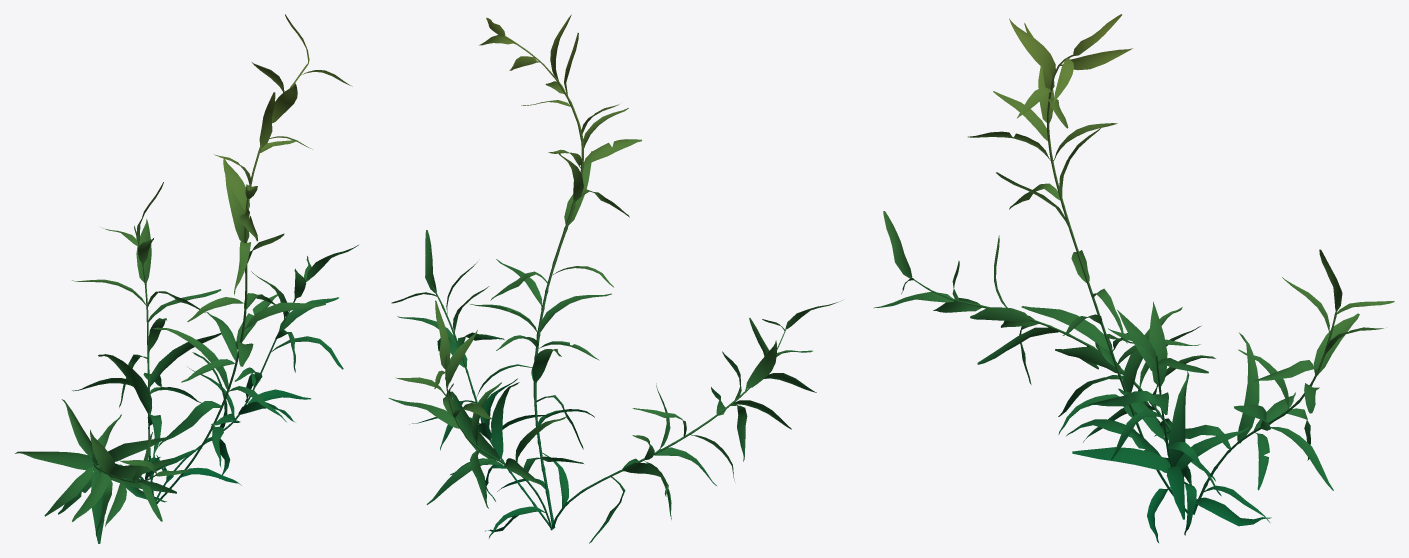
The model's file is shrub_02_1.glb.
The picture shows the model from 3 angles, left to right: view 1: azimuth 30°, elevation 25°; view 2: azimuth 150°, elevation 25°; view 3: azimuth 270°, elevation 25°; orthographic projection. The views are drawn at different scales.
Parts seen in each view (by area): view 1: shrub_02_b; view 2: shrub_02_b; view 3: shrub_02_b.
Part boxes in pixels (box(x1,y1,x2,y2)): shrub_02_b: box(15, 14, 358, 543); shrub_02_b: box(388, 14, 842, 543); shrub_02_b: box(873, 14, 1394, 542).
Bounding box in the file's own units: 1.11 × 1.51 × 1.28.
